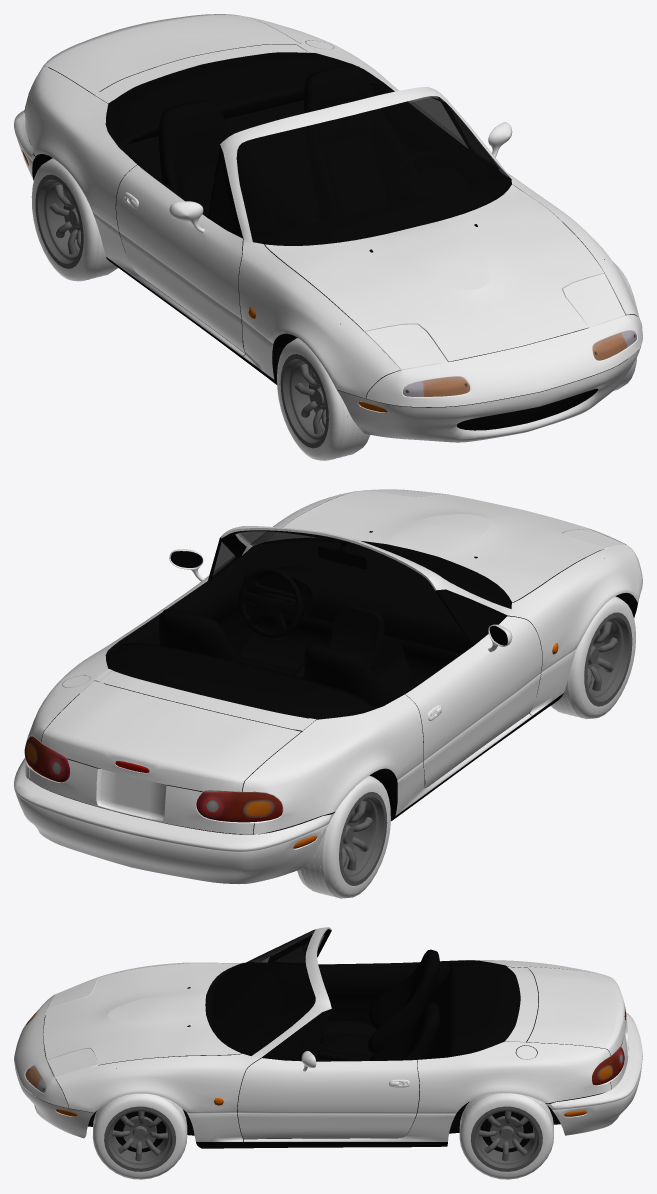
The model's file is miata.fbx.
3 renders of one model, top to bottom at view 1: azimuth 30°, elevation 25°; view 2: azimuth 150°, elevation 25°; view 3: azimuth 270°, elevation 25°, orthographic. The views are drawn at different scales.
Visible parts, largest first — view 1: Cube.001, Circle.004, Circle.005, Cube.007, Plane; view 2: Cube.001, Circle.005, Circle.004, Cube.007; view 3: Cube.001, Circle.002, Circle.003, Cube.007, Plane.
Boxes of the visible parts, x1=… form: Cube.001: x1=14, y1=14, x2=642, y2=442; Circle.004: x1=277, y1=338, x2=369, y2=460; Circle.005: x1=31, y1=158, x2=117, y2=281; Cube.007: x1=365, y1=273, x2=625, y2=373; Plane: x1=29, y1=44, x2=627, y2=430; Cube.001: x1=14, y1=489, x2=642, y2=883; Circle.005: x1=297, y1=775, x2=390, y2=898; Circle.004: x1=550, y1=596, x2=635, y2=719; Cube.007: x1=365, y1=489, x2=624, y2=551; Cube.001: x1=14, y1=927, x2=642, y2=1148; Circle.002: x1=459, y1=1093, x2=553, y2=1179; Circle.003: x1=92, y1=1093, x2=187, y2=1179; Cube.007: x1=47, y1=978, x2=97, y2=1076; Plane: x1=38, y1=969, x2=622, y2=1145.
Bounding box in the file's own units: 124 × 80.24 × 266.
